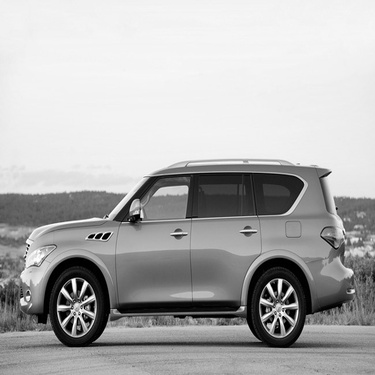car: (11, 155, 359, 350)
